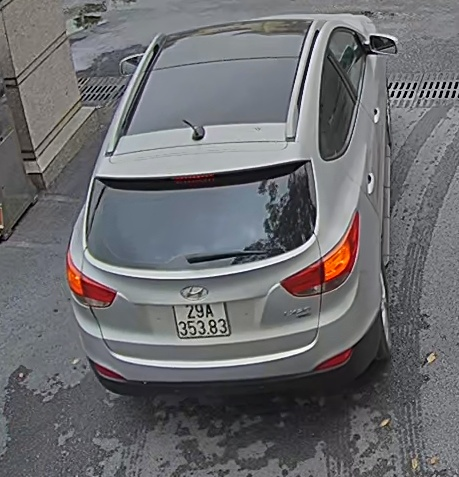vehicle plate: (168, 297, 235, 340)
